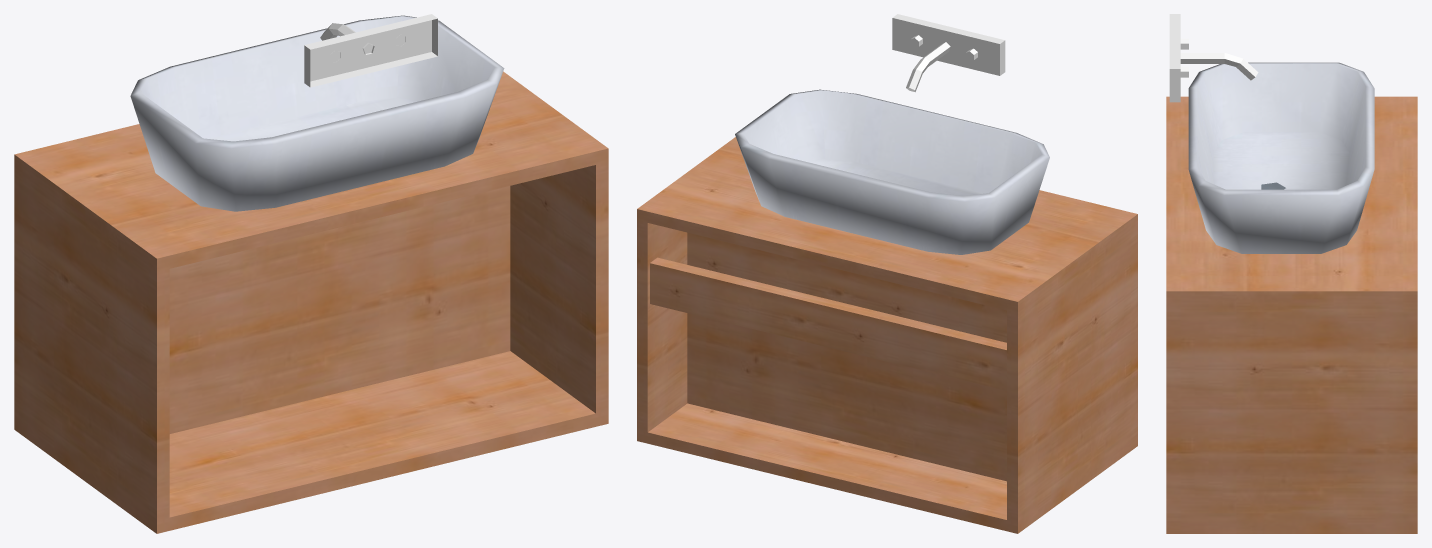
The model's file is Washbasin_02.glb.
3 renders of one model, left to right at view 1: azimuth 30°, elevation 25°; view 2: azimuth 150°, elevation 25°; view 3: azimuth 270°, elevation 25°, orthographic. The views are drawn at different scales.
Parts seen in each view (by area): view 1: Washbasin_02; view 2: Washbasin_02; view 3: Washbasin_02.
Boxes of the visible parts, left/top/right/bottom form: Washbasin_02: left=14, top=14, right=608, bottom=533; Washbasin_02: left=637, top=14, right=1137, bottom=533; Washbasin_02: left=1166, top=14, right=1417, bottom=533.
Bounding box in the file's own units: 1.01 × 0.9492 × 0.5509.
Materials: 4 (3 with a texture image).
